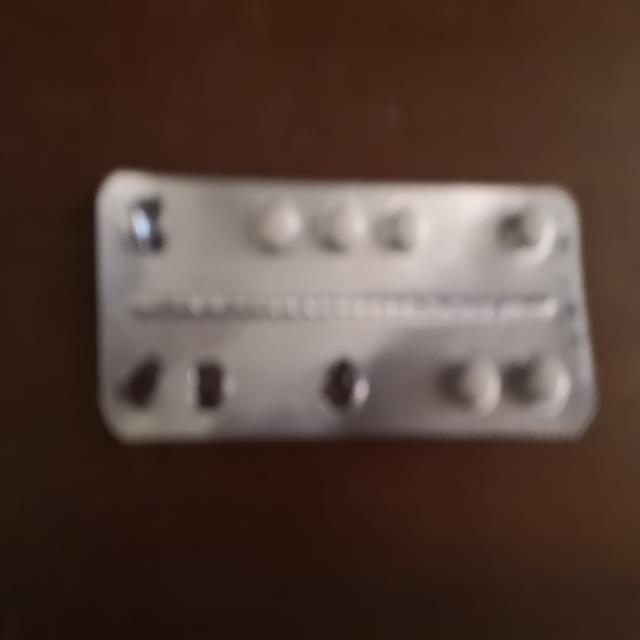Empty: (316, 349, 375, 418), (122, 193, 182, 260), (182, 349, 236, 418), (115, 348, 164, 414)
Pill: (523, 352, 575, 418), (504, 202, 559, 264), (381, 202, 432, 264), (315, 203, 371, 257), (455, 354, 502, 417), (253, 202, 306, 257)
